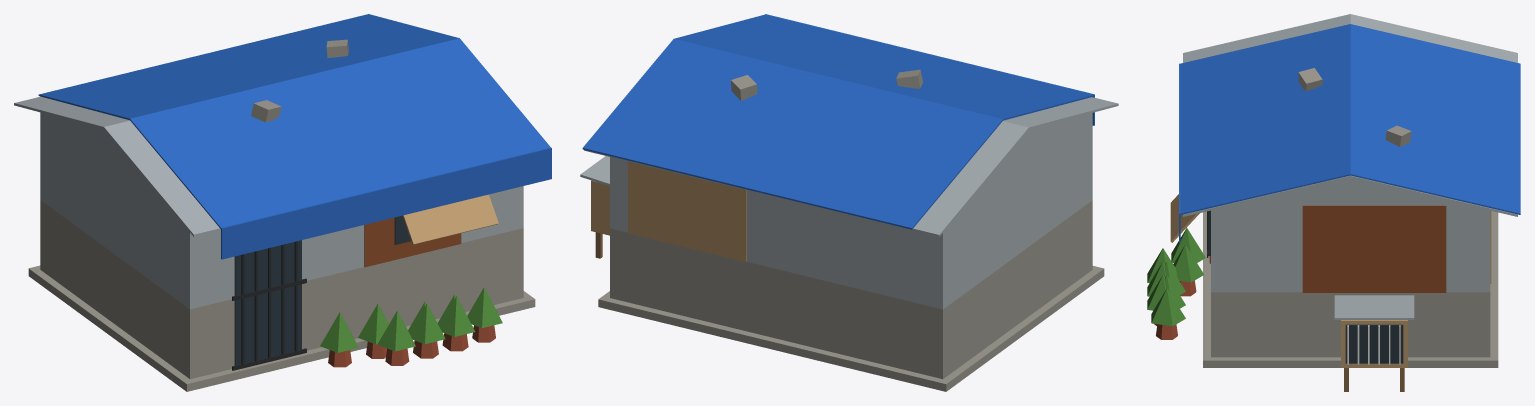
File: BAY_I_TarpShack_G.glb
3 views of the same model, side by side, from view 1: azimuth 30°, elevation 25°; view 2: azimuth 150°, elevation 25°; view 3: azimuth 270°, elevation 25° (orthographic). The views are drawn at different scales.
Visible parts, largest first — view 1: BAY_I_TarpShack_G; view 2: BAY_I_TarpShack_G; view 3: BAY_I_TarpShack_G.
Part boxes in pixels (<box>): BAY_I_TarpShack_G: <box>14,14,551,391</box>; BAY_I_TarpShack_G: <box>580,14,1118,391</box>; BAY_I_TarpShack_G: <box>1147,14,1520,391</box>.
Size of the model in its own units: 5.6 by 2.76 by 4.67.
Materials: 1 (1 with a texture image).
